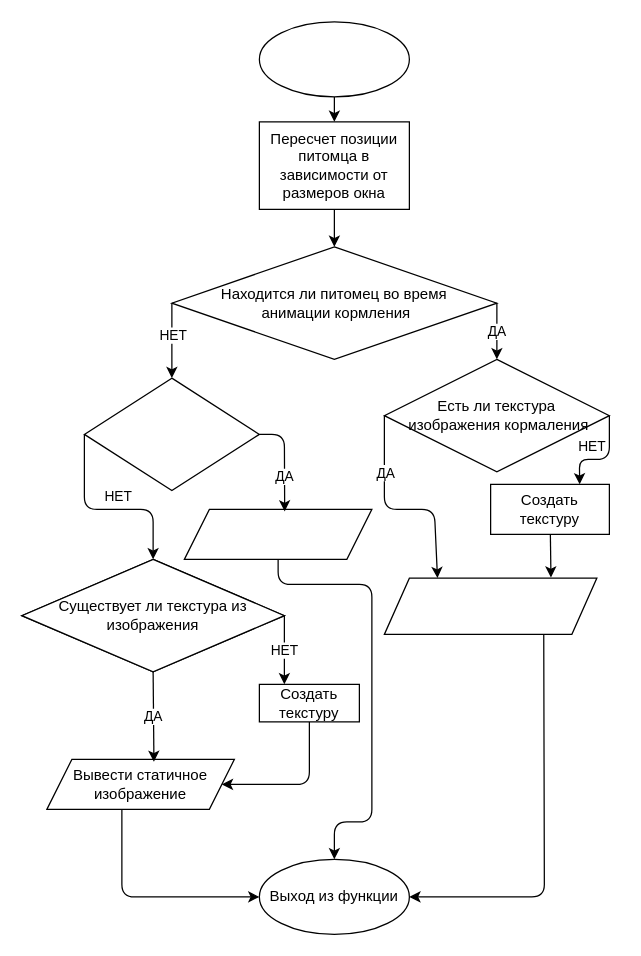
This 641x956 diagram has some shape labels left out. The shapes that lost their labels are listed below. From the top down, each one's box as (x1, y1, x2, y2) in pixels, then its label:
(258, 21, 409, 97): Вход в функцию
(83, 377, 259, 491): Есть ли анимация у питомца
(183, 508, 372, 559): Показать текцщий кадр в анимации
(383, 577, 597, 634): Вывести изображения связаное с кормлением
